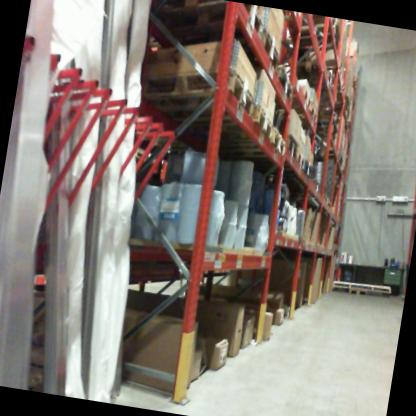pallet: (134, 53, 262, 136), (165, 91, 277, 155), (174, 12, 287, 74), (144, 0, 268, 48), (280, 11, 345, 58), (216, 120, 286, 163), (262, 95, 322, 131), (270, 58, 300, 101), (277, 131, 302, 161), (293, 79, 314, 114), (290, 142, 310, 171), (344, 283, 371, 303), (306, 167, 316, 185)
